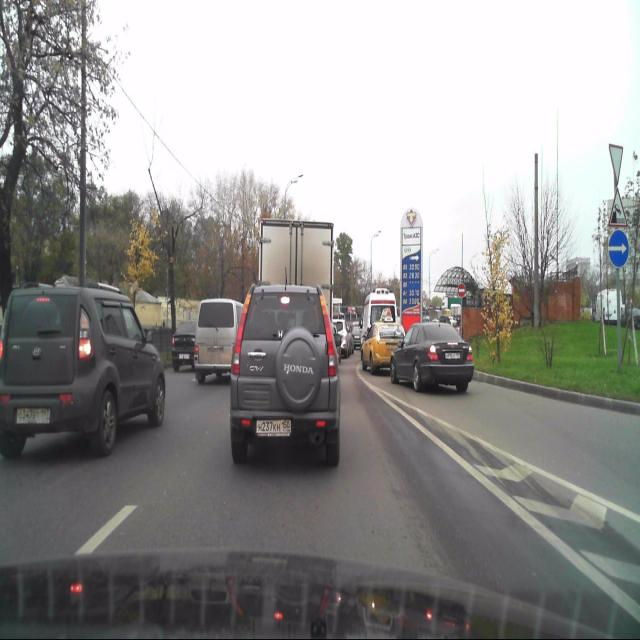road sign: (608, 188, 628, 227), (608, 144, 624, 186)
